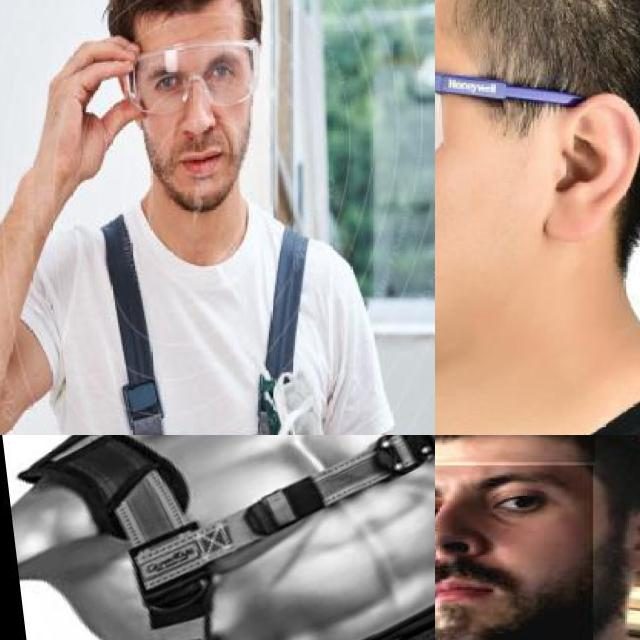Harness: (20, 435, 435, 640)
No_Ear-Protection: (541, 87, 640, 241), (614, 495, 640, 576)
face_nomask: (435, 465, 593, 640), (149, 47, 252, 180)
glasses: (435, 42, 599, 180), (121, 34, 260, 118)
hand_noglove: (34, 28, 152, 172)
head_nohelmet: (108, 0, 264, 29), (435, 435, 595, 462)
person: (0, 0, 419, 435), (435, 435, 640, 640)
